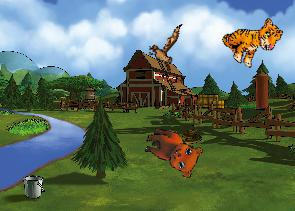bear: (138, 125, 205, 180)
eagle: (146, 24, 185, 73)
tiger: (217, 4, 286, 74)
